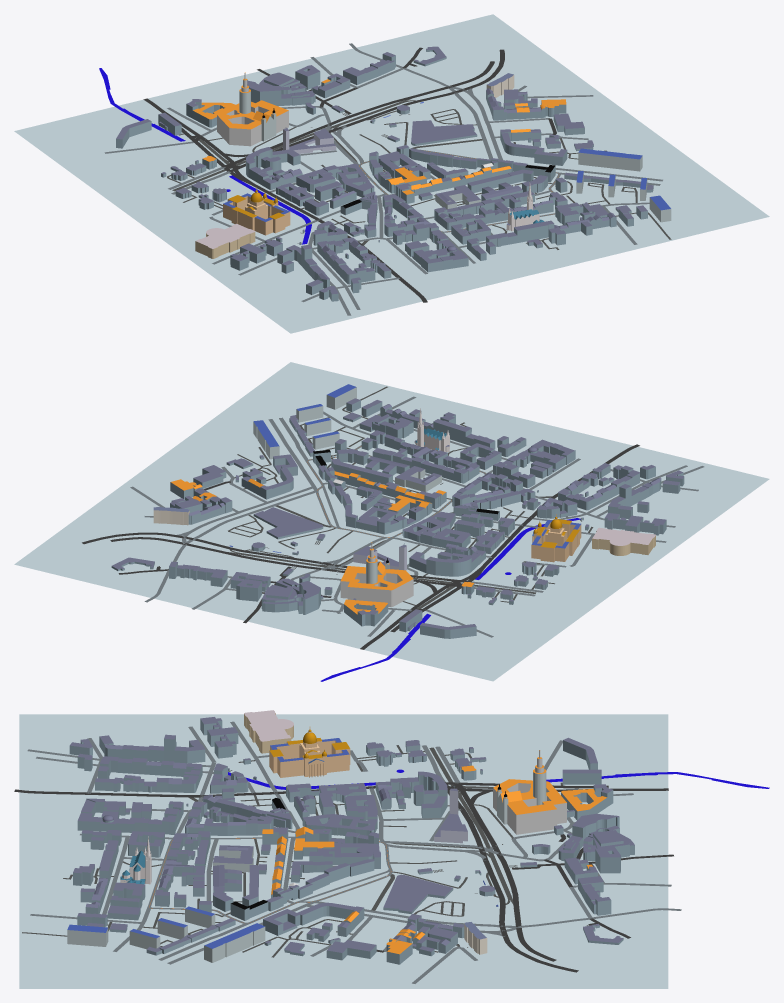
Rendered from poughkeepsie.gltf.
The picture shows the model from 3 angles, top to bottom: view 1: azimuth 30°, elevation 25°; view 2: azimuth 150°, elevation 25°; view 3: azimuth 270°, elevation 25°; orthographic projection. The views are drawn at different scales.
Visible parts, largest first — view 1: Plane, map_5.osm_buildings, map_5.osm_roads_residential, map_5.osm_roads_primary, map_5.osm_roads_service, map_5.osm_roads_secondary, map_5.osm_water; view 2: Plane, map_5.osm_buildings, map_5.osm_roads_residential, map_5.osm_roads_primary, map_5.osm_roads_service, map_5.osm_roads_secondary, map_5.osm_water; view 3: Plane, map_5.osm_buildings, map_5.osm_roads_residential, map_5.osm_roads_primary, map_5.osm_roads_service, map_5.osm_roads_secondary, Plane.002, map_5.osm_water, map_5.osm_roads_pedestrian.
Boxes of the visible parts, <box> form: Plane: <box>14,14,769,333</box>; map_5.osm_buildings: <box>116,46,671,301</box>; map_5.osm_roads_residential: <box>104,43,649,315</box>; map_5.osm_roads_primary: <box>143,49,504,302</box>; map_5.osm_roads_service: <box>167,98,671,249</box>; map_5.osm_roads_secondary: <box>168,86,662,263</box>; map_5.osm_water: <box>99,68,311,244</box>; Plane: <box>14,362,769,681</box>; map_5.osm_buildings: <box>111,384,684,638</box>; map_5.osm_roads_residential: <box>130,396,704,637</box>; map_5.osm_roads_primary: <box>82,444,639,649</box>; map_5.osm_roads_service: <box>228,386,593,609</box>; map_5.osm_roads_secondary: <box>177,417,543,596</box>; map_5.osm_water: <box>320,518,580,681</box>; Plane: <box>19,714,668,988</box>; map_5.osm_buildings: <box>67,710,634,964</box>; map_5.osm_roads_residential: <box>27,721,681,983</box>; map_5.osm_roads_primary: <box>14,782,668,972</box>; map_5.osm_roads_service: <box>22,745,563,957</box>; map_5.osm_roads_secondary: <box>80,745,518,964</box>; Plane.002: <box>148,836,392,924</box>; map_5.osm_water: <box>228,769,769,789</box>; map_5.osm_roads_pedestrian: <box>376,834,673,952</box>.
Bounding box in the file's own units: 1035 × 115 × 1205.
